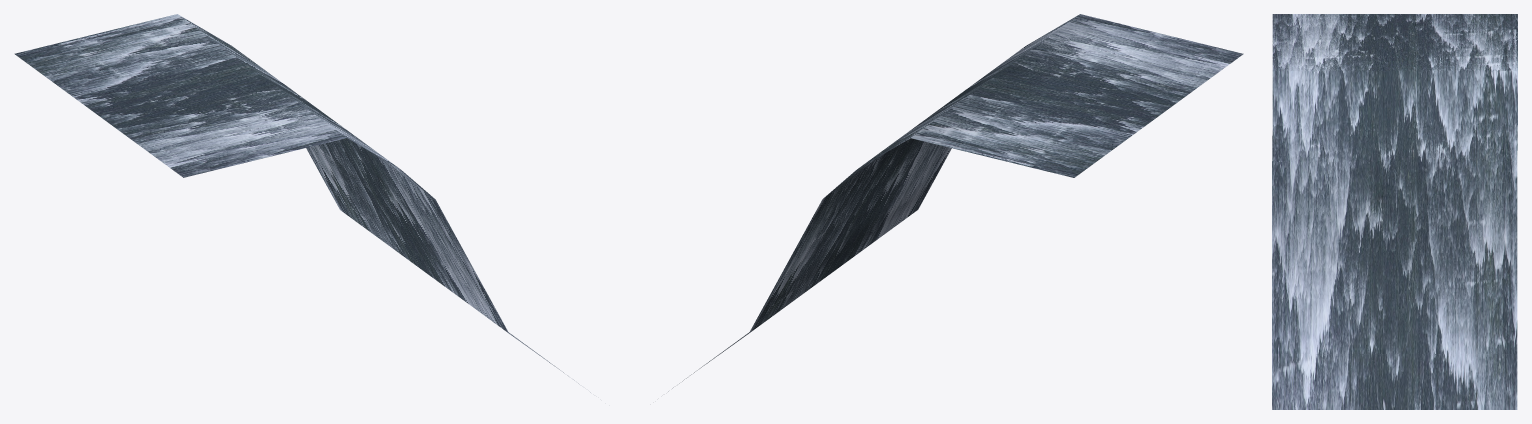
The model's file is waterfalltest2.fbx.
3 views of the same model, side by side, from view 1: azimuth 30°, elevation 25°; view 2: azimuth 150°, elevation 25°; view 3: azimuth 270°, elevation 25° (orthographic). The views are drawn at different scales.
Visible parts, largest first — view 1: pPlane1; view 2: pPlane1; view 3: pPlane1.
Boxes of the visible parts, box(x1,y1,x2,y2) form: pPlane1: box(14, 14, 590, 392); pPlane1: box(668, 14, 1243, 391); pPlane1: box(1272, 14, 1517, 409).
Bounding box in the file's own units: 30.48 × 22.78 × 20.8.
